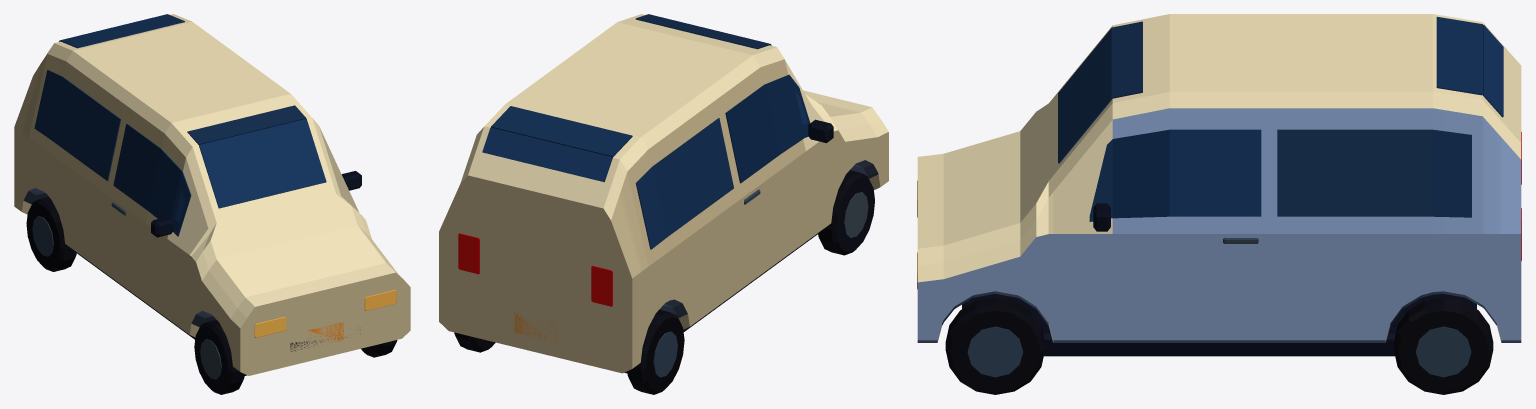
The model's file is HK_Kei_Tall.fbx.
The picture shows the model from 3 angles, left to right: view 1: azimuth 30°, elevation 25°; view 2: azimuth 150°, elevation 25°; view 3: azimuth 270°, elevation 25°; orthographic projection. The views are drawn at different scales.
Visible parts, largest first — view 1: HK_Kei_Tall_BodyMain, HK_Kei_Tall_Glass, HK_Kei_Tall_Tire_FR, HK_Kei_Tall_Tire_RR, HK_Kei_Tall_Tire_FL; view 2: HK_Kei_Tall_BodyMain, HK_Kei_Tall_Glass, HK_Kei_Tall_Tire_RR, HK_Kei_Tall_Tire_FR, HK_Kei_Tall_Tire_RL; view 3: HK_Kei_Tall_BodyMain, HK_Kei_Tall_Glass, HK_Kei_Tall_Tire_FL, HK_Kei_Tall_Tire_RL.
Boxes of the visible parts, left/top/right/bottom form: HK_Kei_Tall_BodyMain: left=14, top=14, right=410, bottom=375; HK_Kei_Tall_Glass: left=34, top=14, right=326, bottom=236; HK_Kei_Tall_Tire_FR: left=194, top=320, right=244, bottom=394; HK_Kei_Tall_Tire_RR: left=26, top=197, right=76, bottom=271; HK_Kei_Tall_Tire_FL: left=361, top=340, right=397, bottom=357; HK_Kei_Tall_BodyMain: left=439, top=14, right=888, bottom=373; HK_Kei_Tall_Glass: left=482, top=14, right=810, bottom=249; HK_Kei_Tall_Tire_RR: left=627, top=309, right=684, bottom=394; HK_Kei_Tall_Tire_FR: left=818, top=170, right=874, bottom=255; HK_Kei_Tall_Tire_RL: left=454, top=332, right=495, bottom=352; HK_Kei_Tall_BodyMain: left=917, top=14, right=1521, bottom=356; HK_Kei_Tall_Glass: left=1058, top=17, right=1503, bottom=221; HK_Kei_Tall_Tire_FL: left=945, top=297, right=1045, bottom=394; HK_Kei_Tall_Tire_RL: left=1393, top=297, right=1493, bottom=394.
Bounding box in the file's own units: 1.79 × 1.8 × 3.4.
